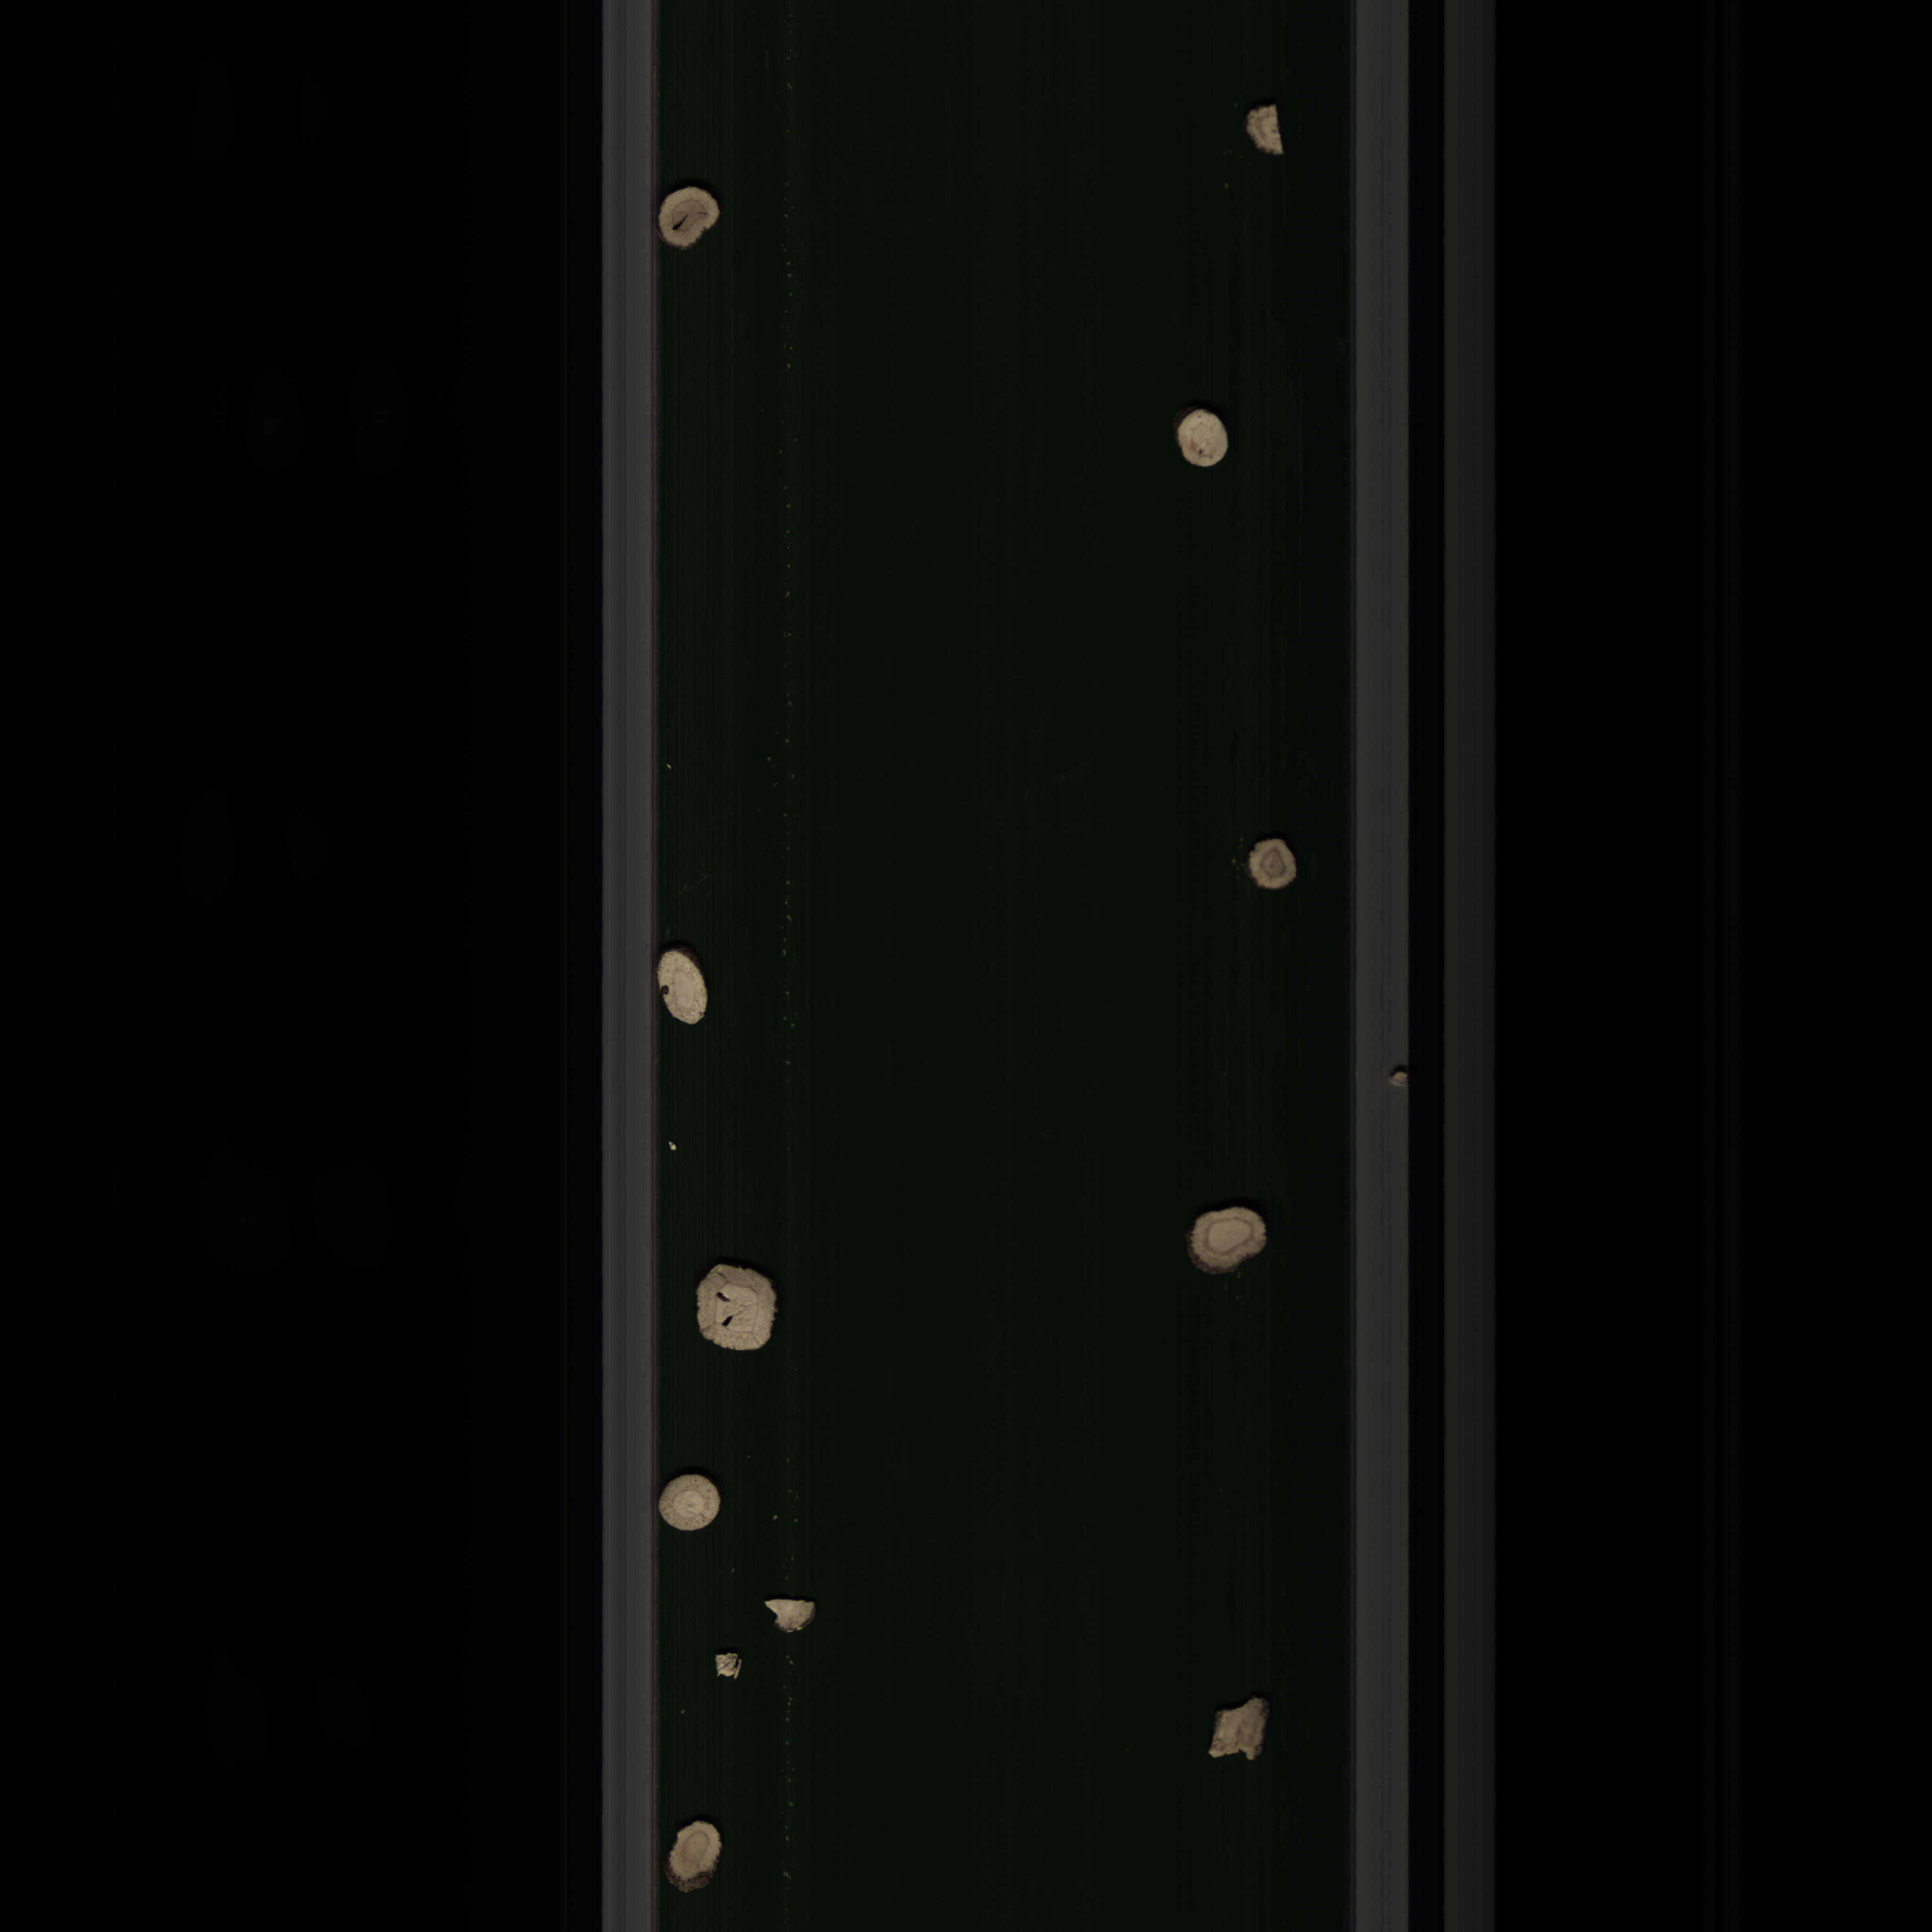debris: (1205, 1686, 1274, 1776), (1235, 94, 1295, 172), (754, 1594, 840, 1637), (702, 1645, 750, 1691)
hole: (679, 1254, 805, 1373), (658, 172, 725, 253)
moldy: (1187, 1201, 1279, 1279)
